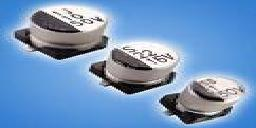Electrolytic-Capacitor: (10, 3, 108, 57), (88, 41, 177, 95), (162, 73, 249, 128)
